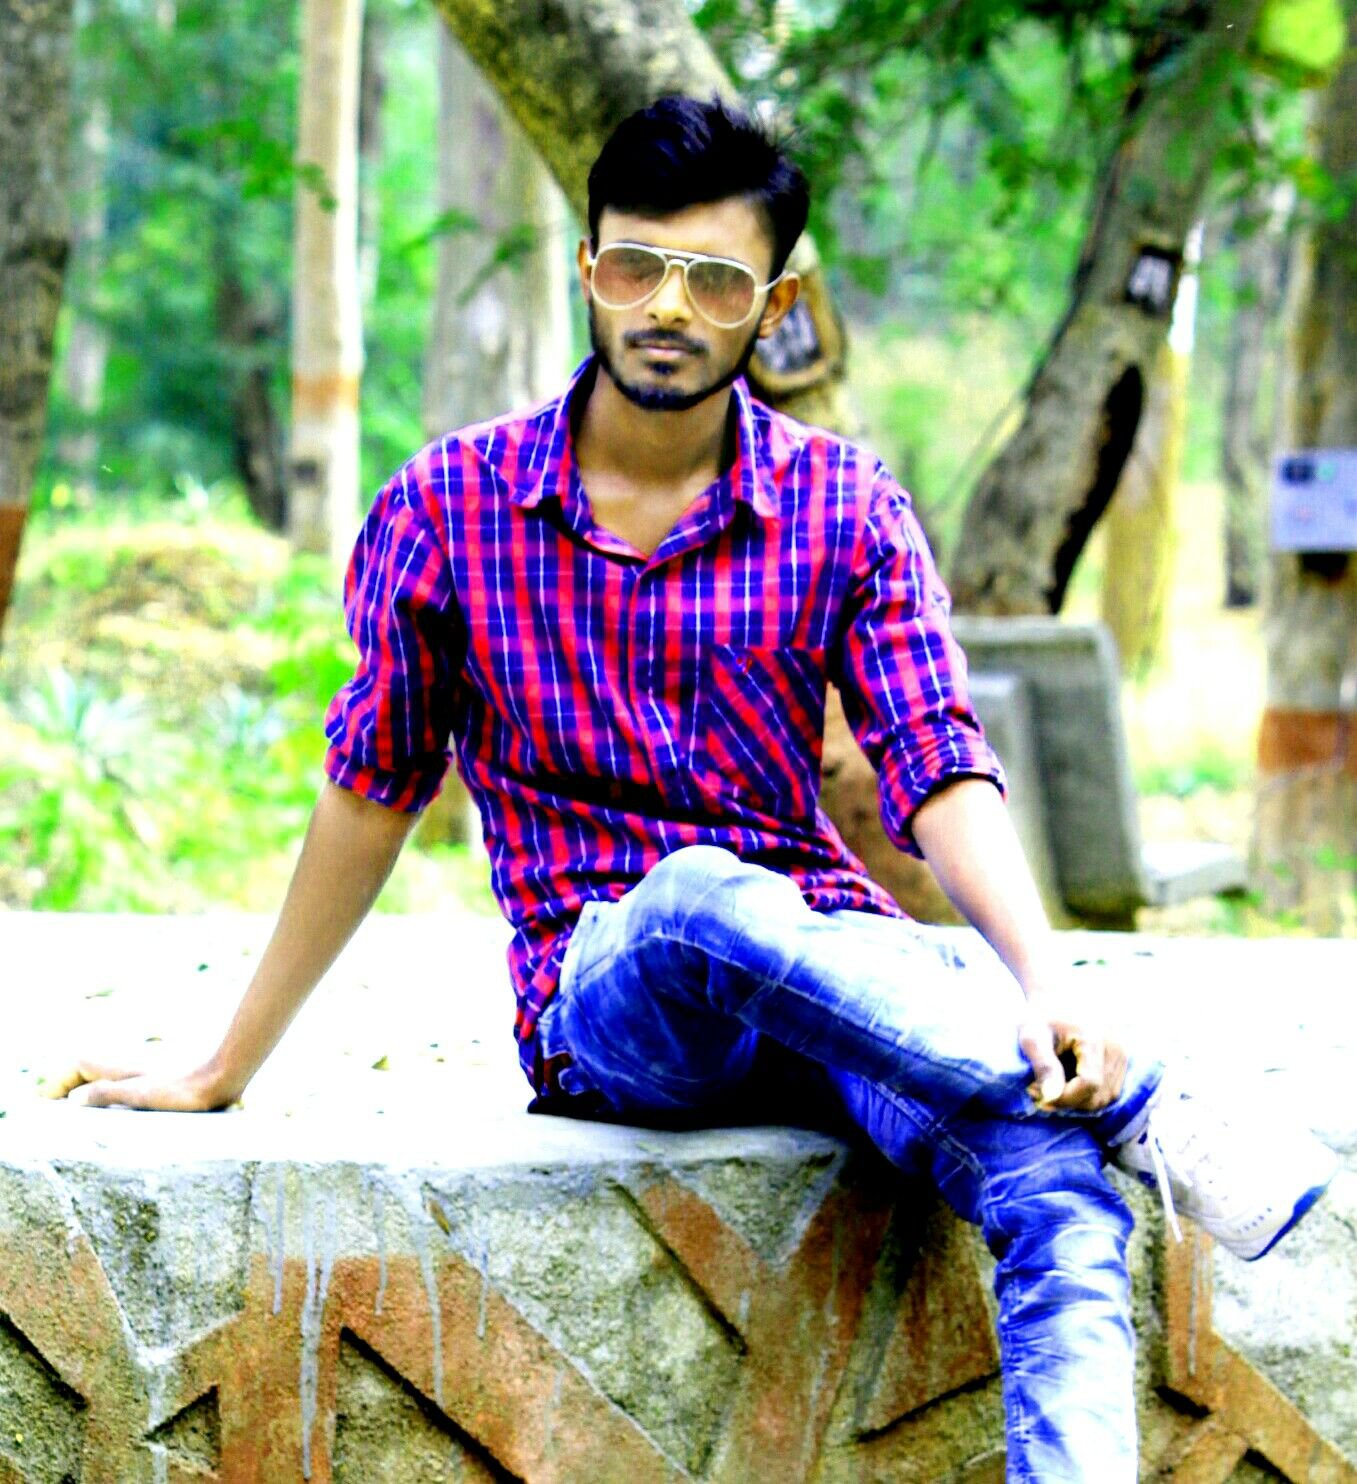noMask: (524, 84, 839, 421)
